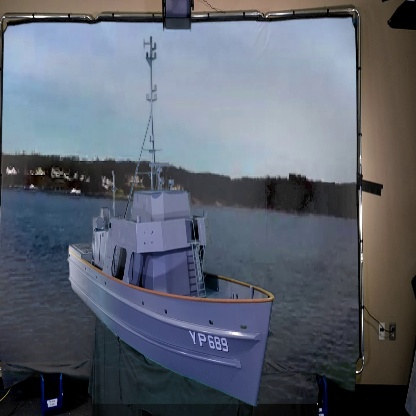YP689: (69, 39, 276, 407)
